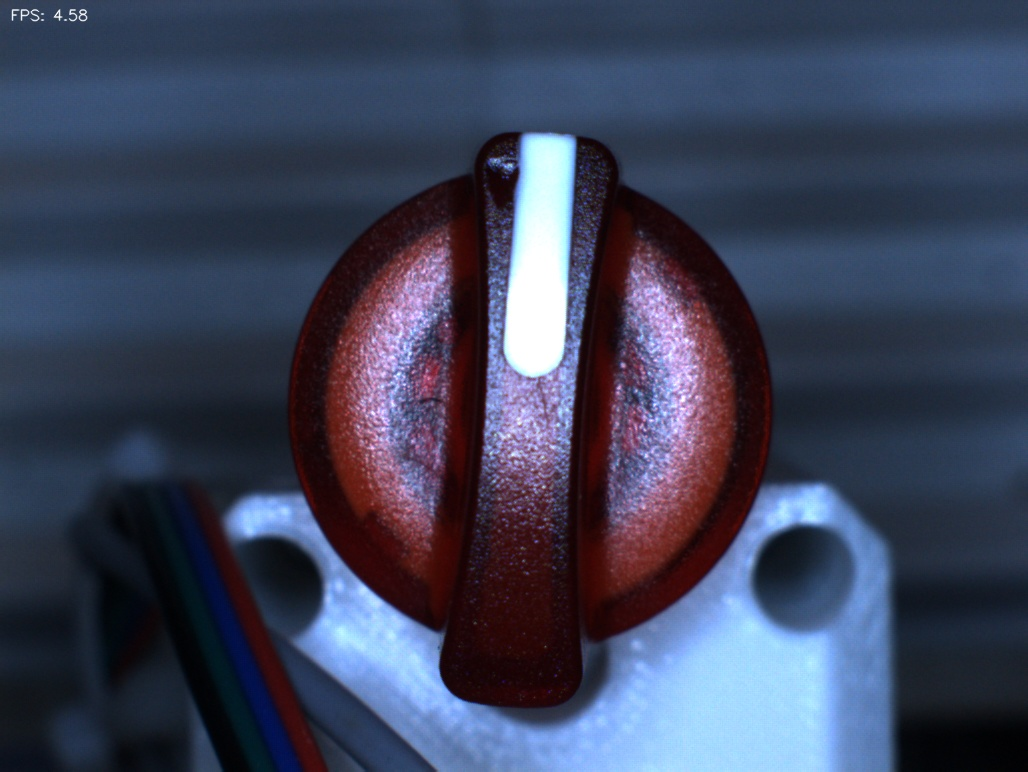Choc: (462, 133, 549, 220)
